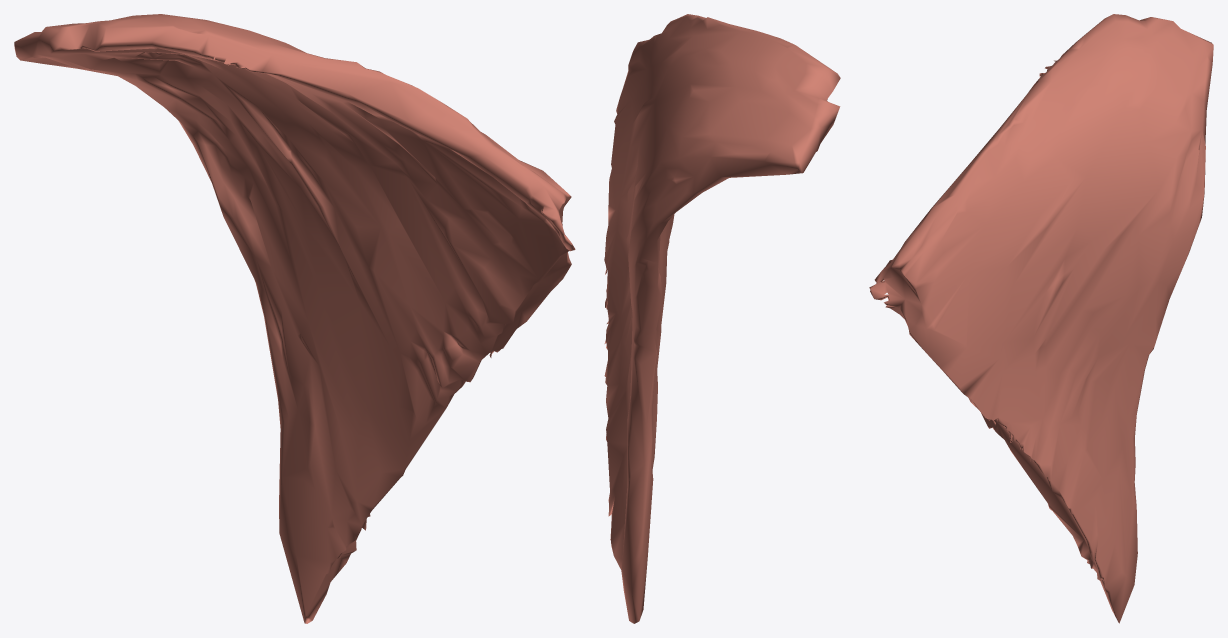
3 renders of one model, left to right at view 1: azimuth 30°, elevation 25°; view 2: azimuth 150°, elevation 25°; view 3: azimuth 270°, elevation 25°, orthographic. The views are drawn at different scales.
Parts seen in each view (by area): view 1: 左侧髂尾肌; view 2: 左侧髂尾肌; view 3: 左侧髂尾肌.
Boxes of the visible parts, x1,y1,x2,y2 form: 左侧髂尾肌: (14,14,575,623); 左侧髂尾肌: (604,14,840,623); 左侧髂尾肌: (869,14,1213,623).
Size of the model in its own units: 0.0676 by 0.1116 by 0.0659.
